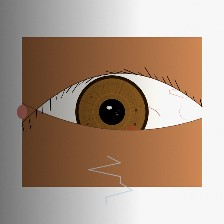foreign_body_visible: (117, 122, 146, 145)
